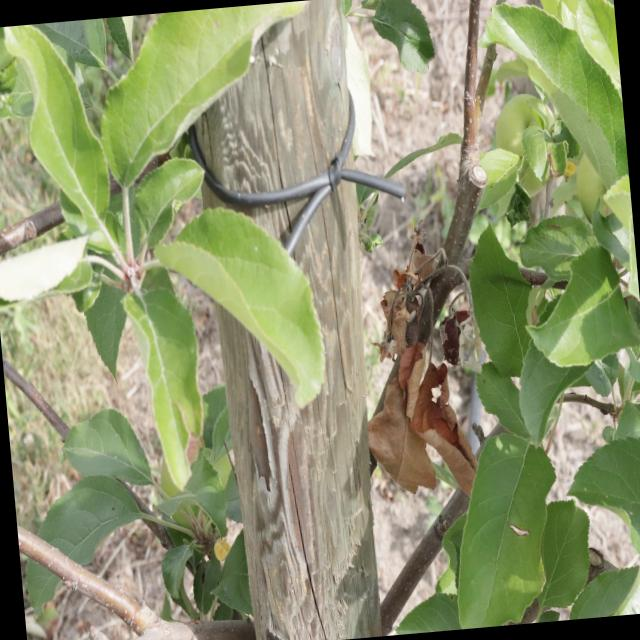-FireBlight-: (355, 237, 477, 497)
